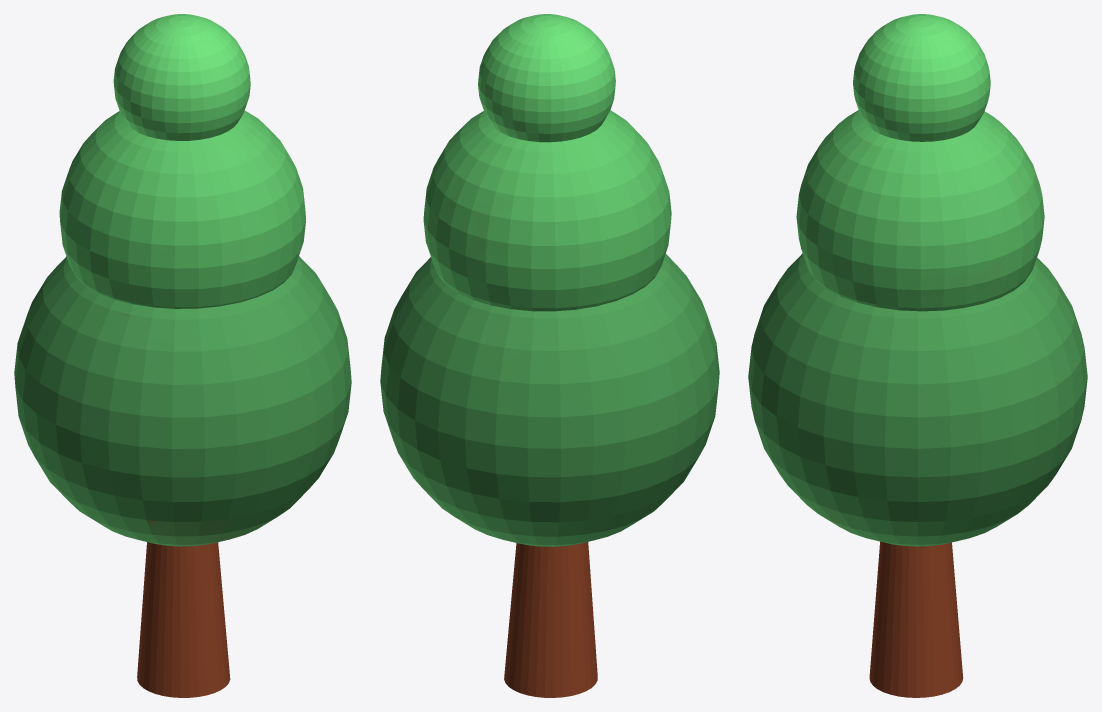
File: træ 2.fbx
The picture shows the model from 3 angles, left to right: view 1: azimuth 30°, elevation 25°; view 2: azimuth 150°, elevation 25°; view 3: azimuth 270°, elevation 25°; orthographic projection.
Parts seen in each view (by area): view 1: Circle; view 2: Circle; view 3: Circle.
Part boxes in pixels (<box>): Circle: <box>14,14,351,697</box>; Circle: <box>380,14,719,697</box>; Circle: <box>748,14,1087,697</box>.
Bounding box in the file's own units: 38.48 × 82.32 × 38.48.
Materials: 1 (1 with a texture image).
